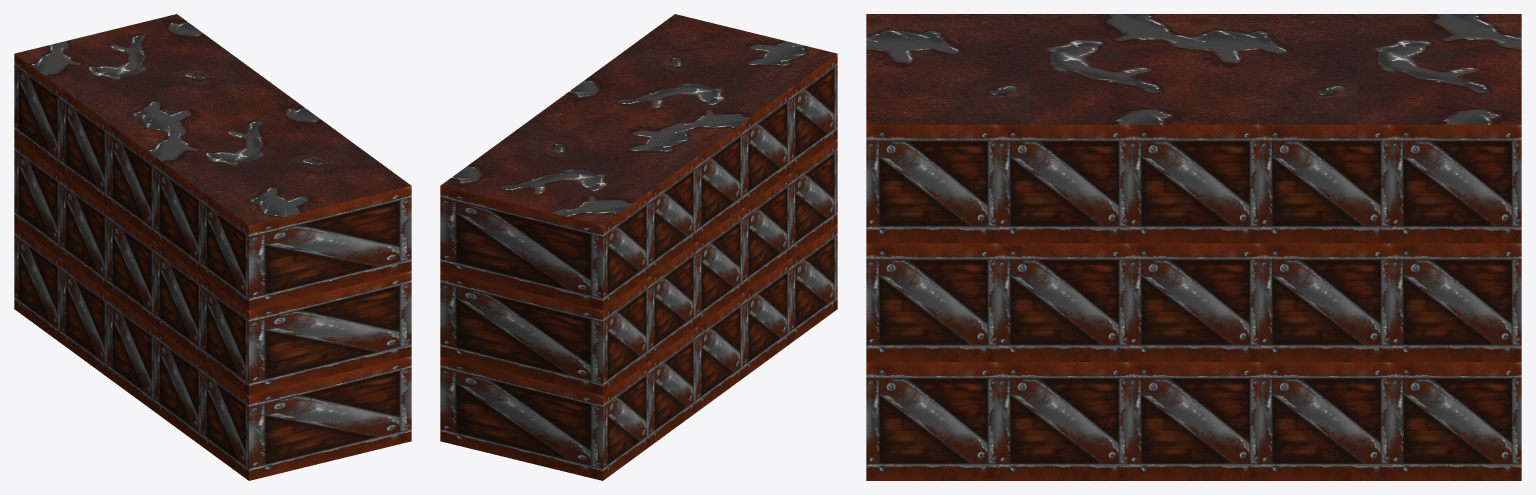
The model's file is MoverPlat5x2x3.FBX.
3 renders of one model, left to right at view 1: azimuth 30°, elevation 25°; view 2: azimuth 150°, elevation 25°; view 3: azimuth 270°, elevation 25°, orthographic. The views are drawn at different scales.
Parts seen in each view (by area): view 1: Box01; view 2: Box01; view 3: Box01.
Part boxes in pixels (x1=…): Box01: x1=14, y1=14, x2=411, y2=480; Box01: x1=440, y1=14, x2=837, y2=480; Box01: x1=866, y1=14, x2=1521, y2=480.
Bounding box in the file's own units: 200 × 300 × 500.
Materials: 2 (2 with a texture image).
